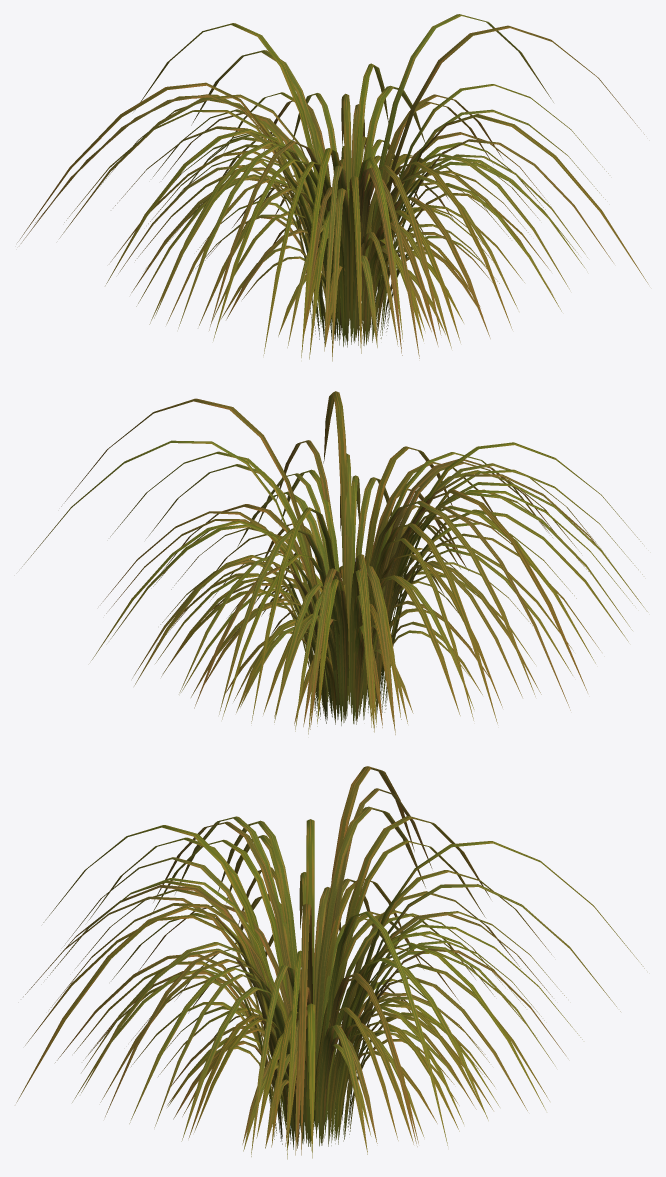
The model's file is deadgrass.glb.
3 renders of one model, top to bottom at view 1: azimuth 30°, elevation 25°; view 2: azimuth 150°, elevation 25°; view 3: azimuth 270°, elevation 25°, orthographic. The views are drawn at different scales.
Visible parts, largest first — view 1: Foliage; view 2: Foliage; view 3: Foliage.
Boxes of the visible parts, x1=… form: Foliage: x1=17, y1=14, x2=648, y2=361; Foliage: x1=22, y1=391, x2=647, y2=734; Foliage: x1=16, y1=766, x2=644, y2=1159.
Size of the model in its own units: 1.3 by 0.58 by 1.14.
Materials: 1 (1 with a texture image).
